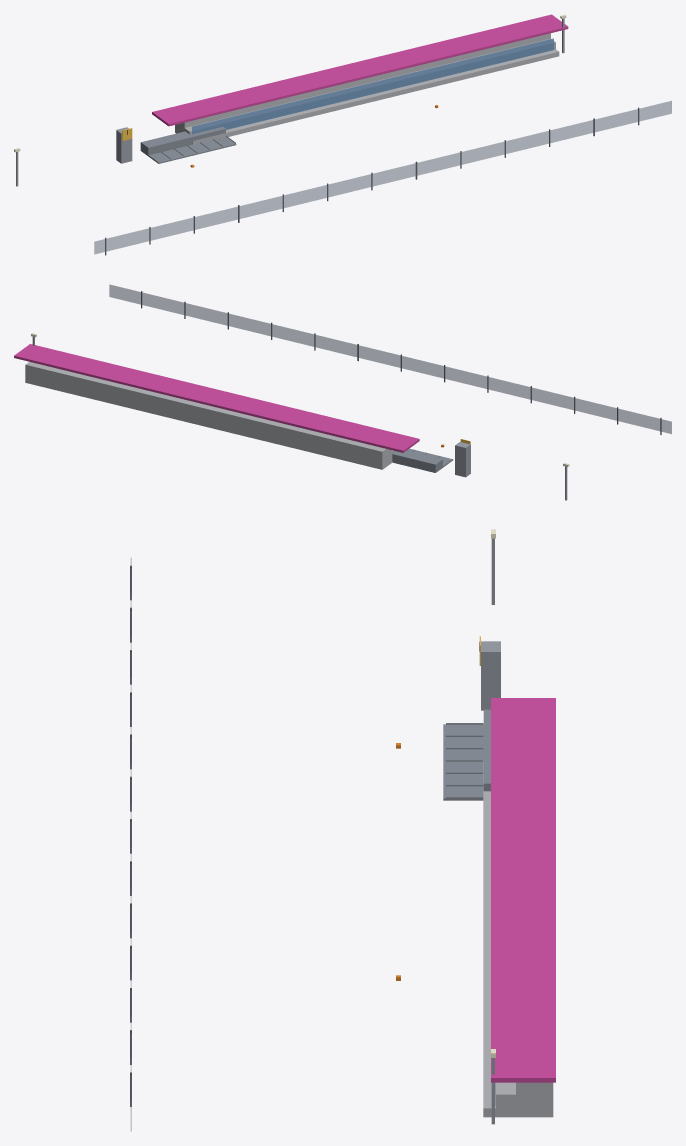
The model's file is venue_16.obj.
3 renders of one model, top to bottom at view 1: azimuth 30°, elevation 25°; view 2: azimuth 150°, elevation 25°; view 3: azimuth 270°, elevation 25°, orthographic. The views are drawn at different scales.
Size of the model in its own units: 520 by 32 by 170.
